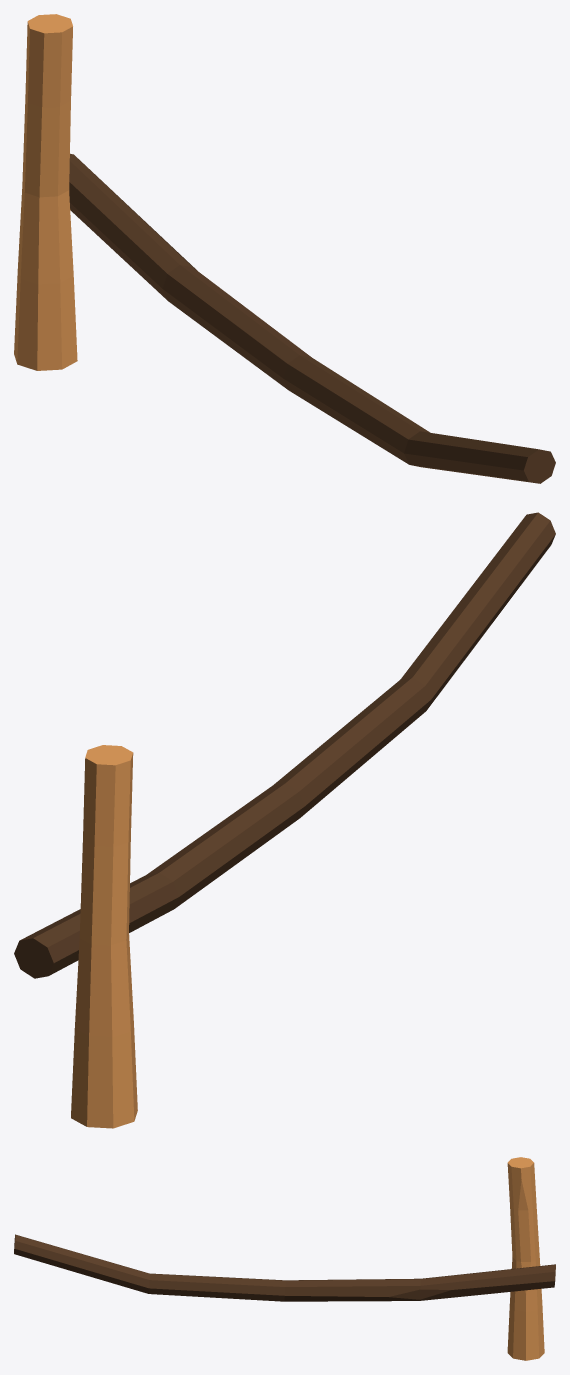
File: Fence_3.fbx
3 views of the same model, one above another, from view 1: azimuth 30°, elevation 25°; view 2: azimuth 150°, elevation 25°; view 3: azimuth 270°, elevation 25° (orthographic). The views are drawn at different scales.
Visible parts, largest first — view 1: fence_2; view 2: fence_2; view 3: fence_2.
Boxes of the visible parts, left/top/right/bottom form: fence_2: left=14, top=14, right=555, bottom=483; fence_2: left=14, top=512, right=555, bottom=1128; fence_2: left=14, top=1157, right=555, bottom=1360.
Size of the model in its own units: 50.13 by 183 by 472.
